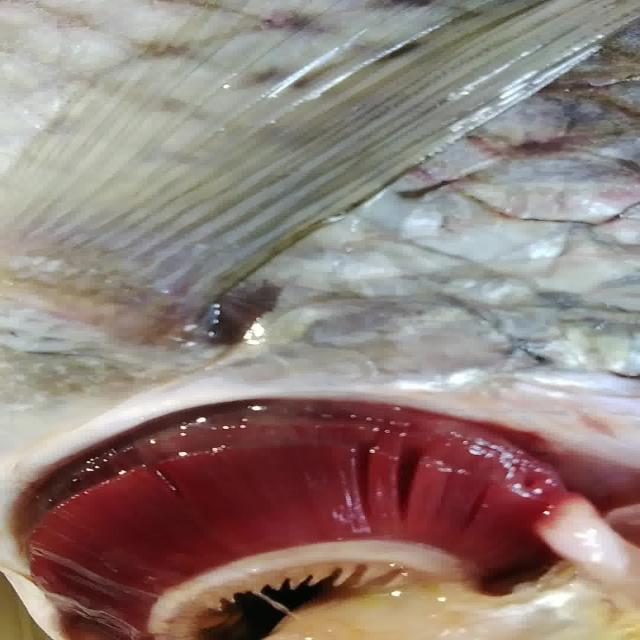Fresh: (4, 404, 596, 630)
